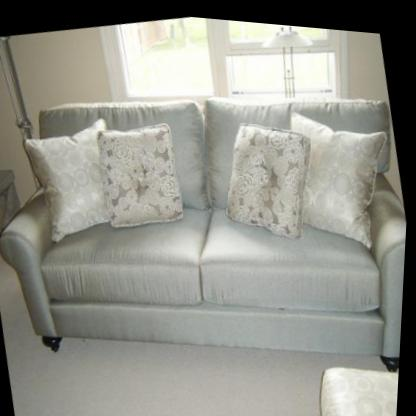Sofa: (0, 42, 414, 416)
